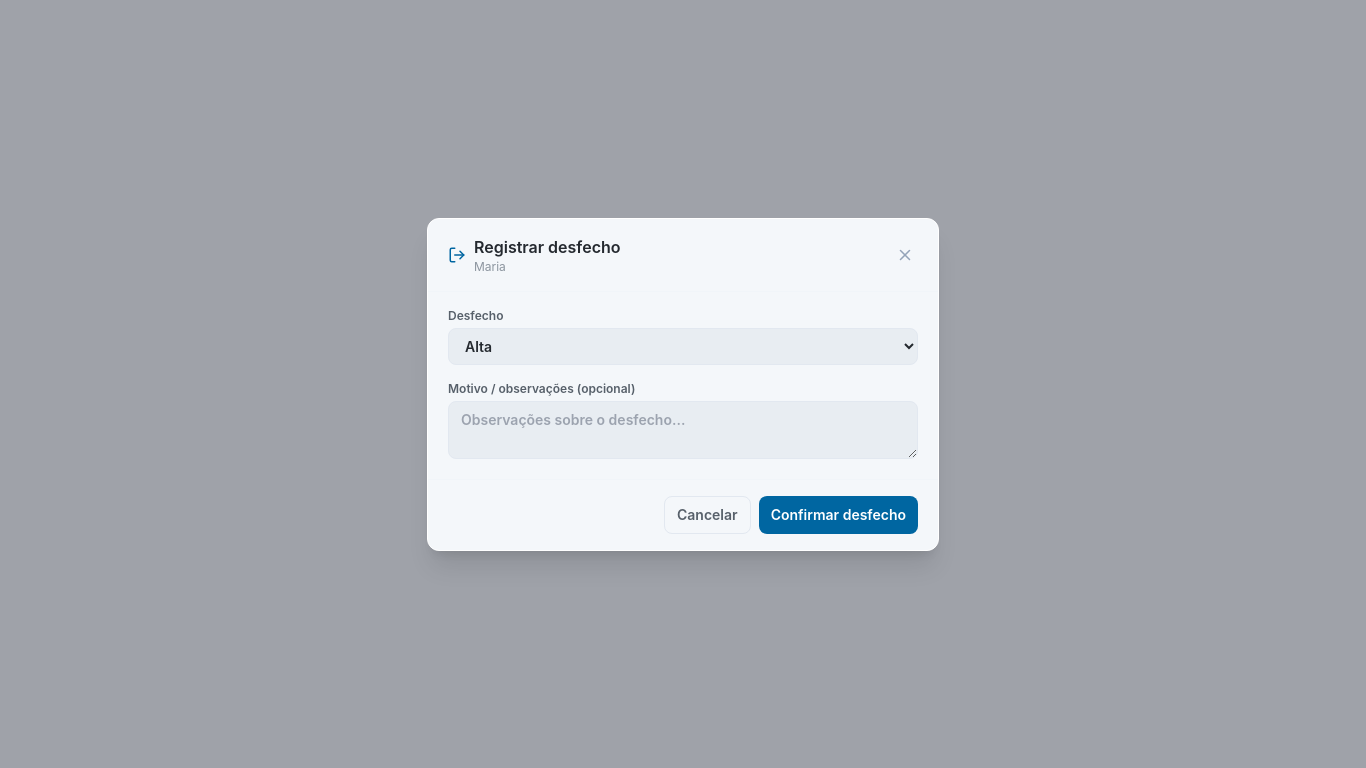
Test: DispositionModal › surfaces a friendly error on a 409 (leito ocupado / transição inválida)
Step 1. Click the button "Confirmar desfecho" → click(838, 514), box [759,496,918,534]
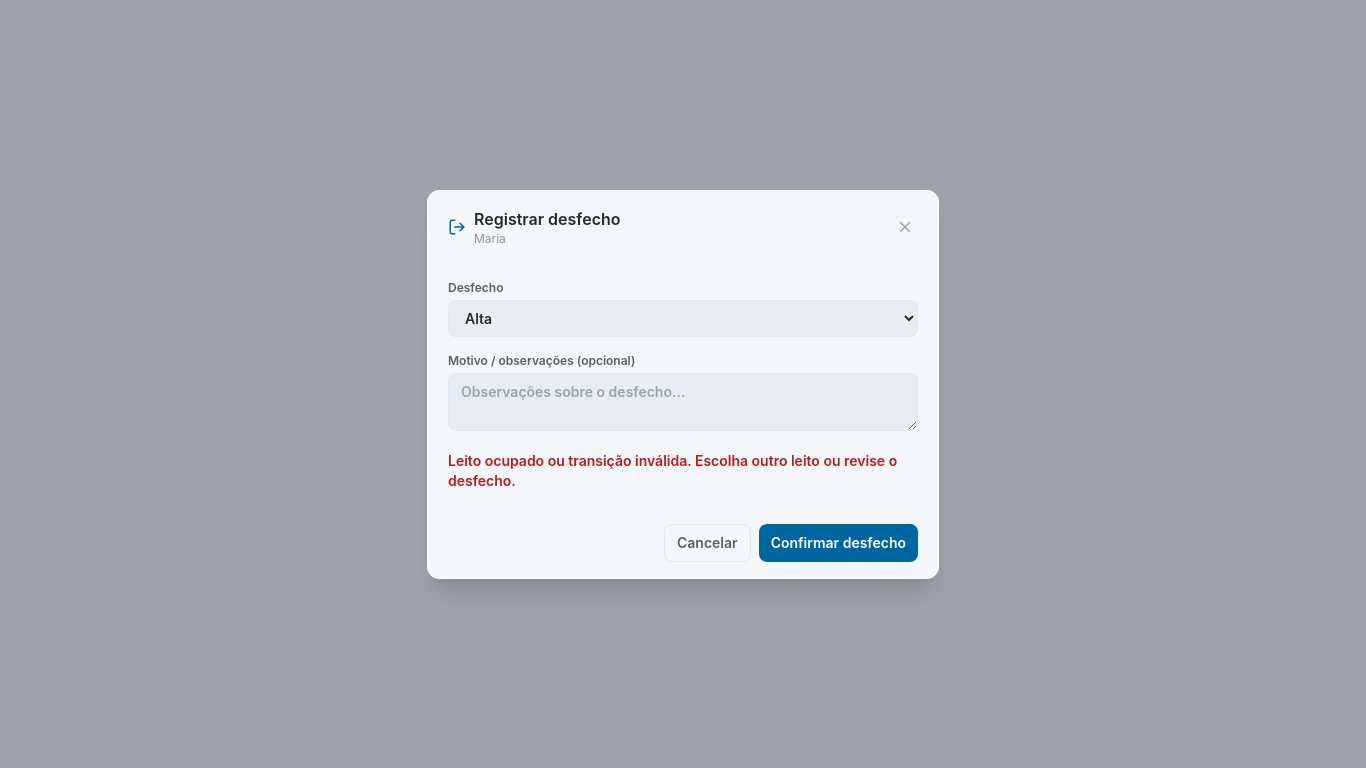
Now the text "Leito ocupado ou transição inválida" is shown, box [448,452,897,488]
